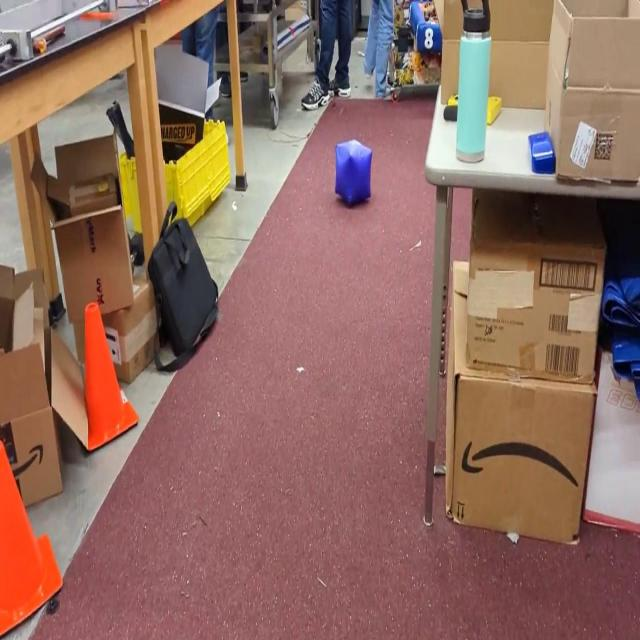frc_cube: (334, 137, 374, 207)
